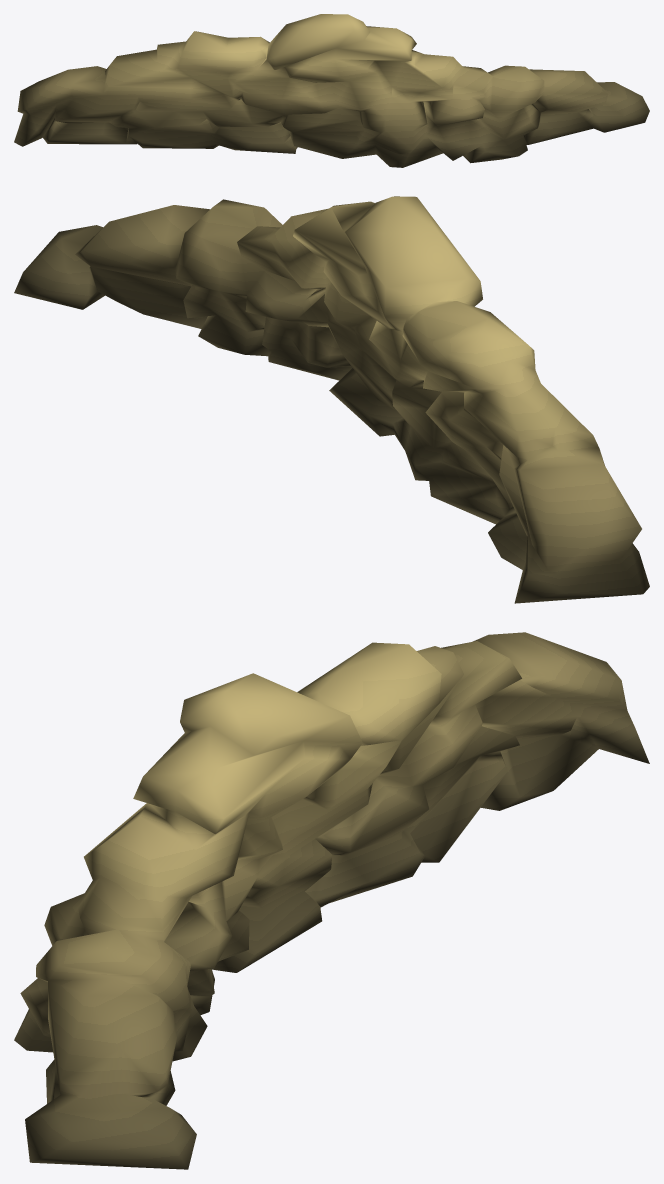
3 views of the same model, one above another, from view 1: azimuth 30°, elevation 25°; view 2: azimuth 150°, elevation 25°; view 3: azimuth 270°, elevation 25° (orthographic). The views are drawn at different scales.
Parts seen in each view (by area): view 1: SB9.col; view 2: SB9.col; view 3: SB9.col.
Boxes of the visible parts, left/top/right/bottom form: SB9.col: left=14, top=14, right=649, bottom=167; SB9.col: left=14, top=196, right=649, bottom=603; SB9.col: left=14, top=632, right=649, bottom=1169.
Bounding box in the file's own units: 5.25 × 1.32 × 3.05.
Materials: 1 (1 with a texture image).
